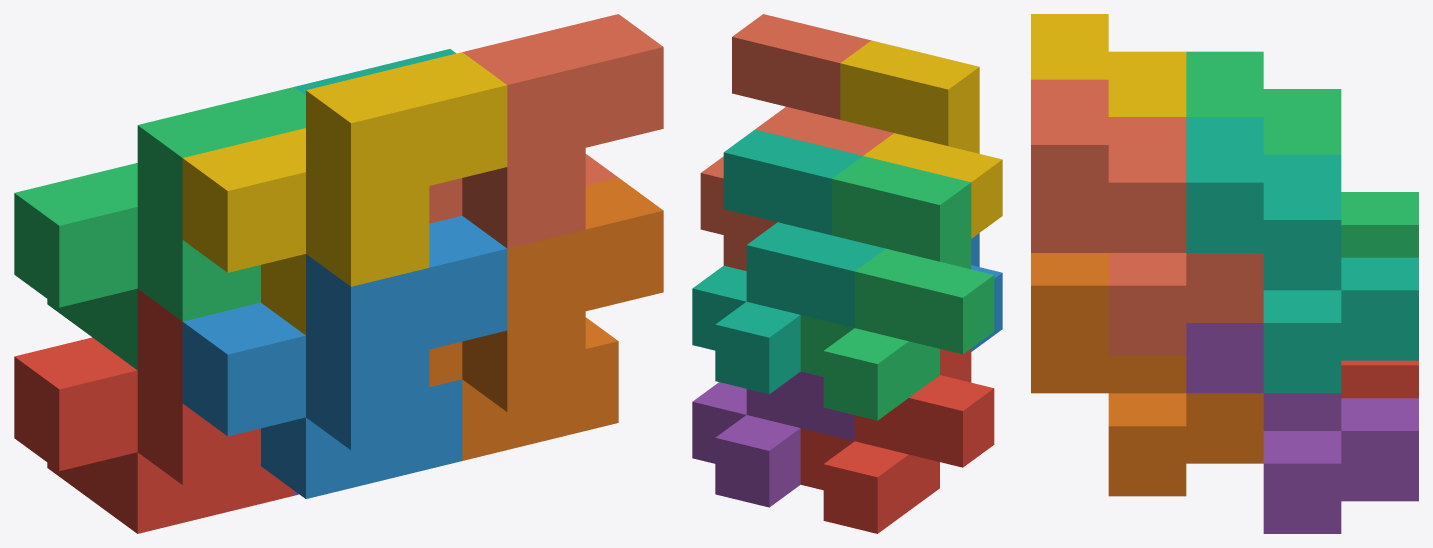
File: tiling.obj
3 renders of one model, left to right at view 1: azimuth 30°, elevation 25°; view 2: azimuth 150°, elevation 25°; view 3: azimuth 270°, elevation 25°, orthographic. The views are drawn at different scales.
Parts seen in each view (by area): view 1: copy_1_domain_2, copy_1_domain_4, copy_1_domain_3, copy_1_domain_1, copy_1_domain_6, copy_1_domain_8, copy_1_domain_7; view 2: copy_1_domain_3, copy_1_domain_7, copy_1_domain_1, copy_1_domain_4, copy_1_domain_8, copy_1_domain_5, copy_1_domain_2; view 3: copy_1_domain_8, copy_1_domain_7, copy_1_domain_6, copy_1_domain_5, copy_1_domain_3, copy_1_domain_4, copy_1_domain_1.
Boxes of the visible parts, left/top/right/bottom form: copy_1_domain_2: left=182, top=216, right=507, bottom=498; copy_1_domain_4: left=182, top=52, right=507, bottom=335; copy_1_domain_3: left=14, top=87, right=305, bottom=369; copy_1_domain_1: left=14, top=289, right=293, bottom=533; copy_1_domain_6: left=429, top=177, right=663, bottom=460; copy_1_domain_8: left=429, top=14, right=663, bottom=248; copy_1_domain_7: left=294, top=49, right=456, bottom=95; copy_1_domain_3: left=800, top=156, right=994, bottom=420; copy_1_domain_7: left=692, top=129, right=885, bottom=394; copy_1_domain_1: left=800, top=348, right=994, bottom=533; copy_1_domain_4: left=840, top=40, right=1002, bottom=238; copy_1_domain_8: left=700, top=14, right=893, bottom=270; copy_1_domain_5: left=692, top=371, right=854, bottom=507; copy_1_domain_2: left=971, top=233, right=1002, bottom=351; copy_1_domain_8: left=1031, top=79, right=1263, bottom=355; copy_1_domain_7: left=1186, top=117, right=1418, bottom=393; copy_1_domain_6: left=1031, top=253, right=1263, bottom=496; copy_1_domain_5: left=1186, top=323, right=1418, bottom=533; copy_1_domain_3: left=1186, top=51, right=1418, bottom=257; copy_1_domain_4: left=1031, top=14, right=1186, bottom=116; copy_1_domain_1: left=1341, top=360, right=1418, bottom=398.
Bounding box in the file's own units: 6 × 6 × 5.
